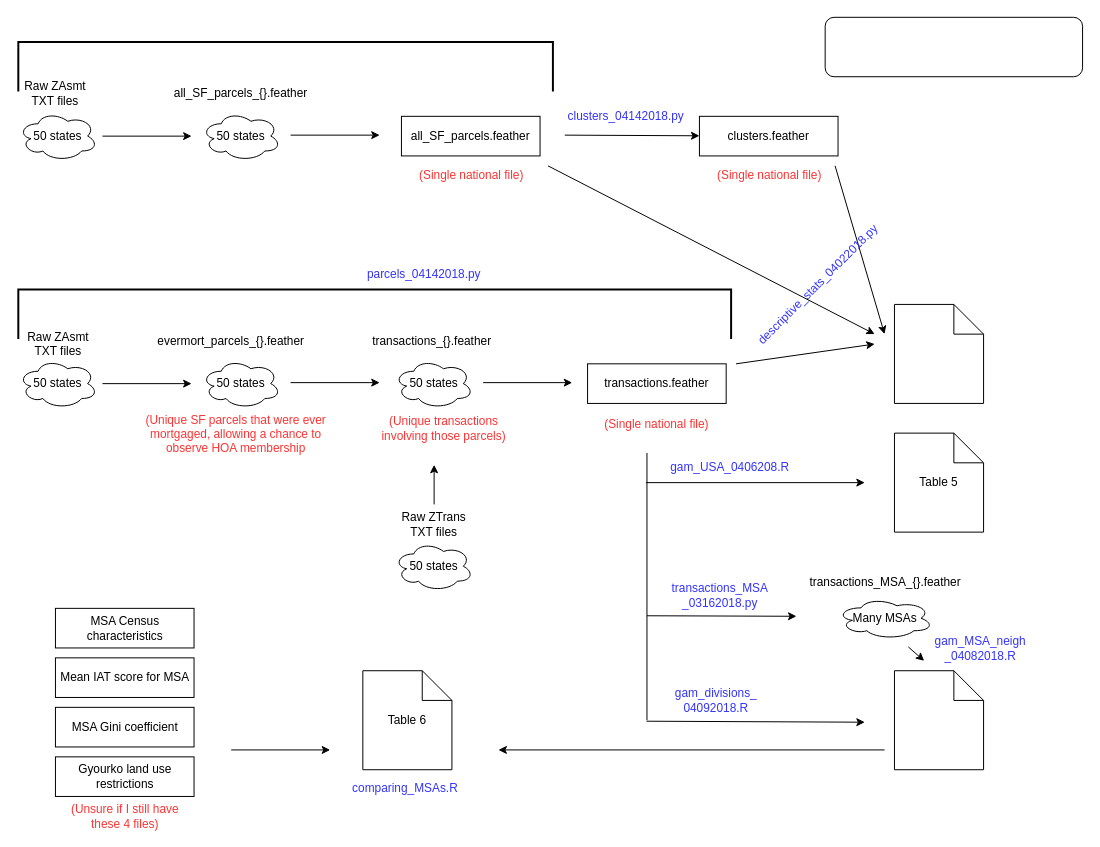
Some shapes in this 1100 by 847 pixel diagram are drawn without their labels. Here are the shapes that lost their labels. From the top down, the box of each, then its label:
(17, 41, 553, 92): all_parcels_04142018.py
(824, 16, 1083, 77): Schematic for The Rise and Effects of Homeowners Associations, 12/05/2018
(893, 303, 984, 403): Tables 2, 3, 4 Figures 4, 5, 6
(893, 670, 984, 770): Figures 5 & 6
